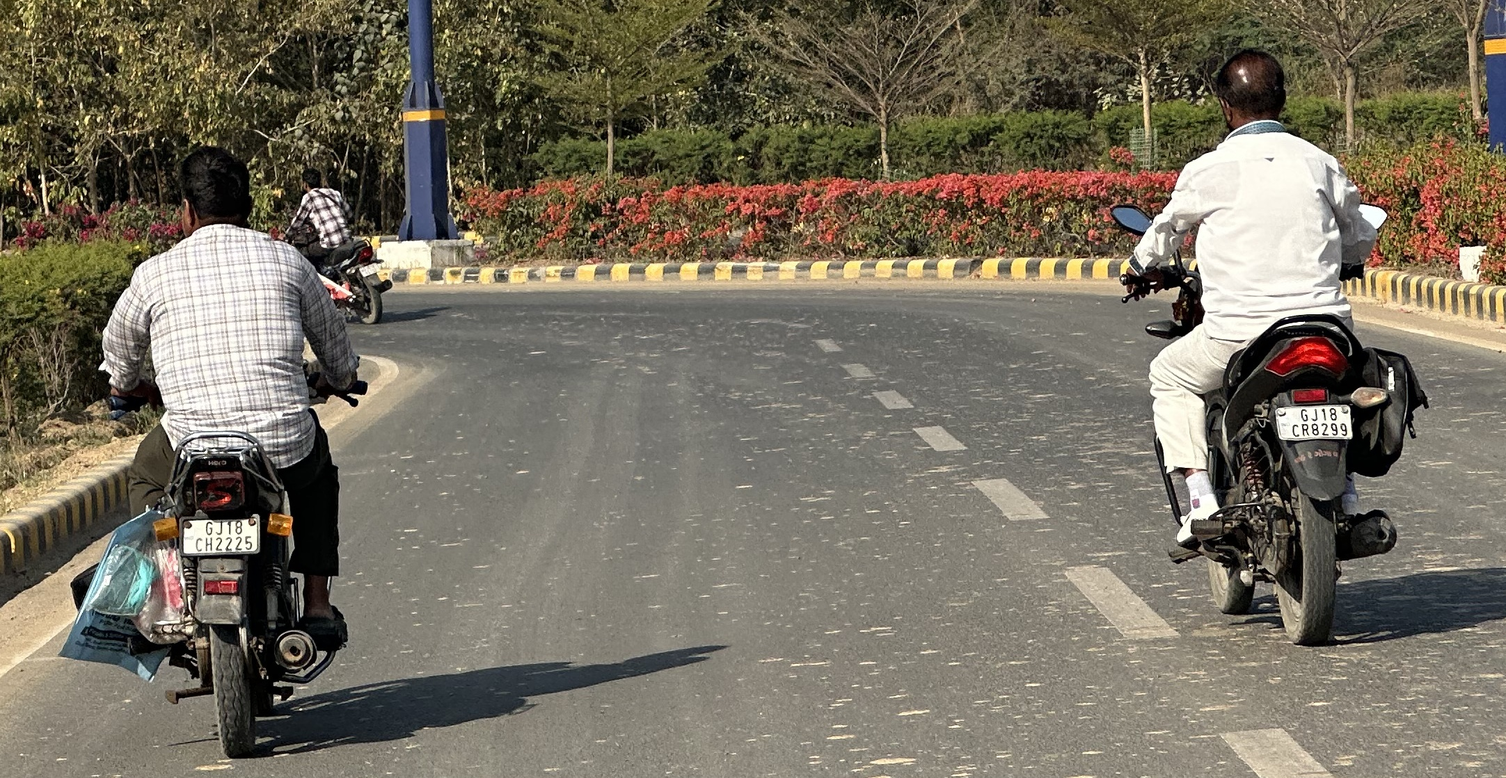BikeWithRider: (1100, 37, 1438, 654), (54, 135, 374, 767), (274, 157, 399, 331)
NoHelmet: (1200, 40, 1304, 140), (166, 137, 264, 239)
